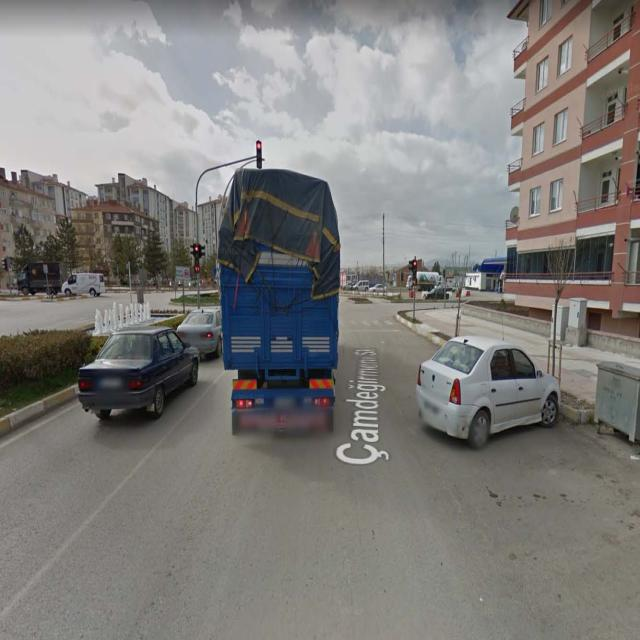kirmizi: (257, 139, 262, 168), (195, 245, 199, 265), (413, 260, 417, 279)
